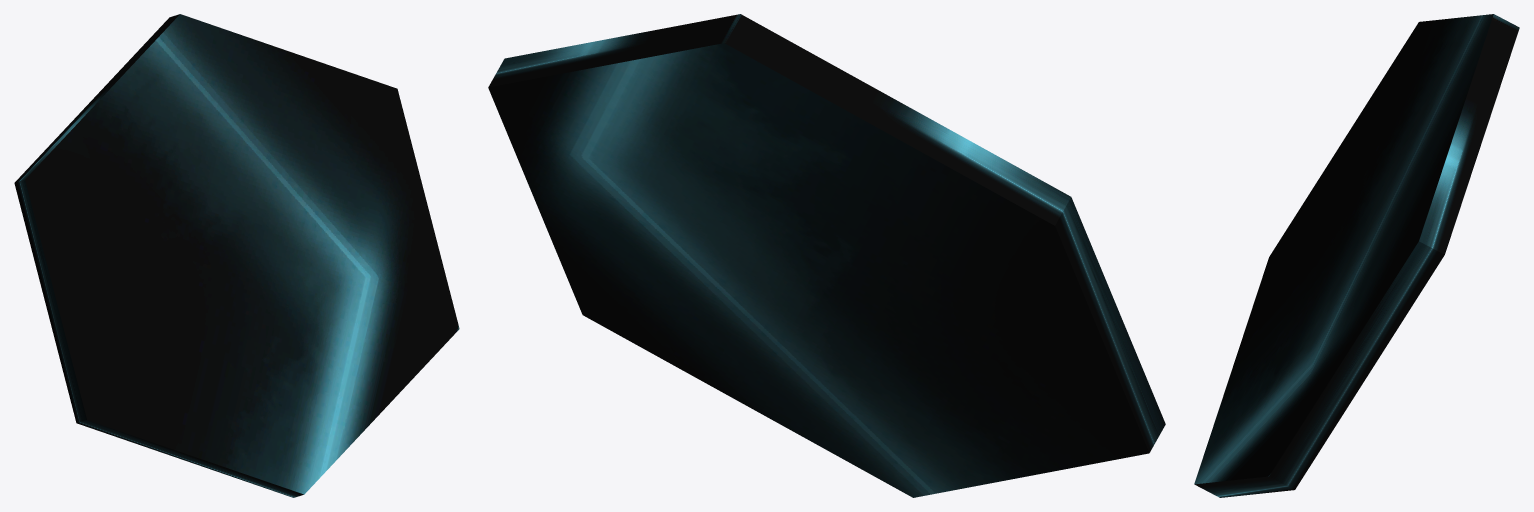
File: hexagon_head.fbx
3 views of the same model, side by side, from view 1: azimuth 30°, elevation 25°; view 2: azimuth 150°, elevation 25°; view 3: azimuth 270°, elevation 25° (orthographic). The views are drawn at different scales.
Visible parts, largest first — view 1: Cylinder; view 2: Cylinder; view 3: Cylinder.
Boxes of the visible parts, left/top/right/bottom form: Cylinder: left=14, top=14, right=459, bottom=497; Cylinder: left=488, top=14, right=1165, bottom=497; Cylinder: left=1194, top=14, right=1519, bottom=497.
Bounding box in the file's own units: 178 × 173 × 109.
1 material, 1 textured.
